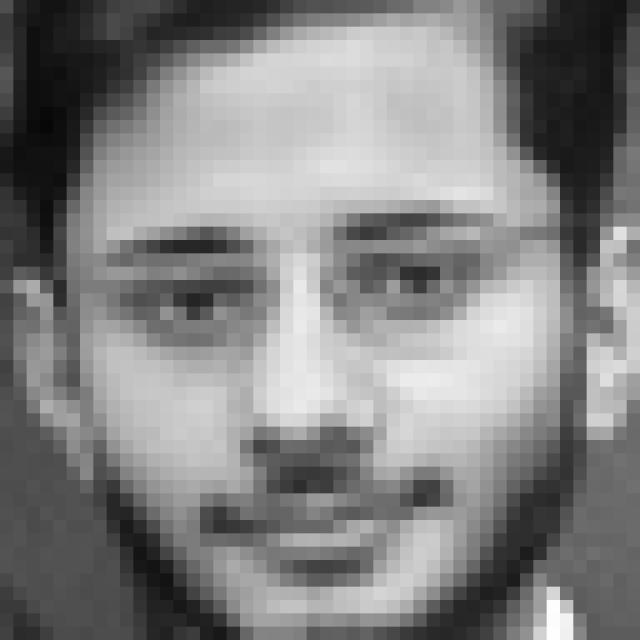neutral: (102, 203, 521, 586)
